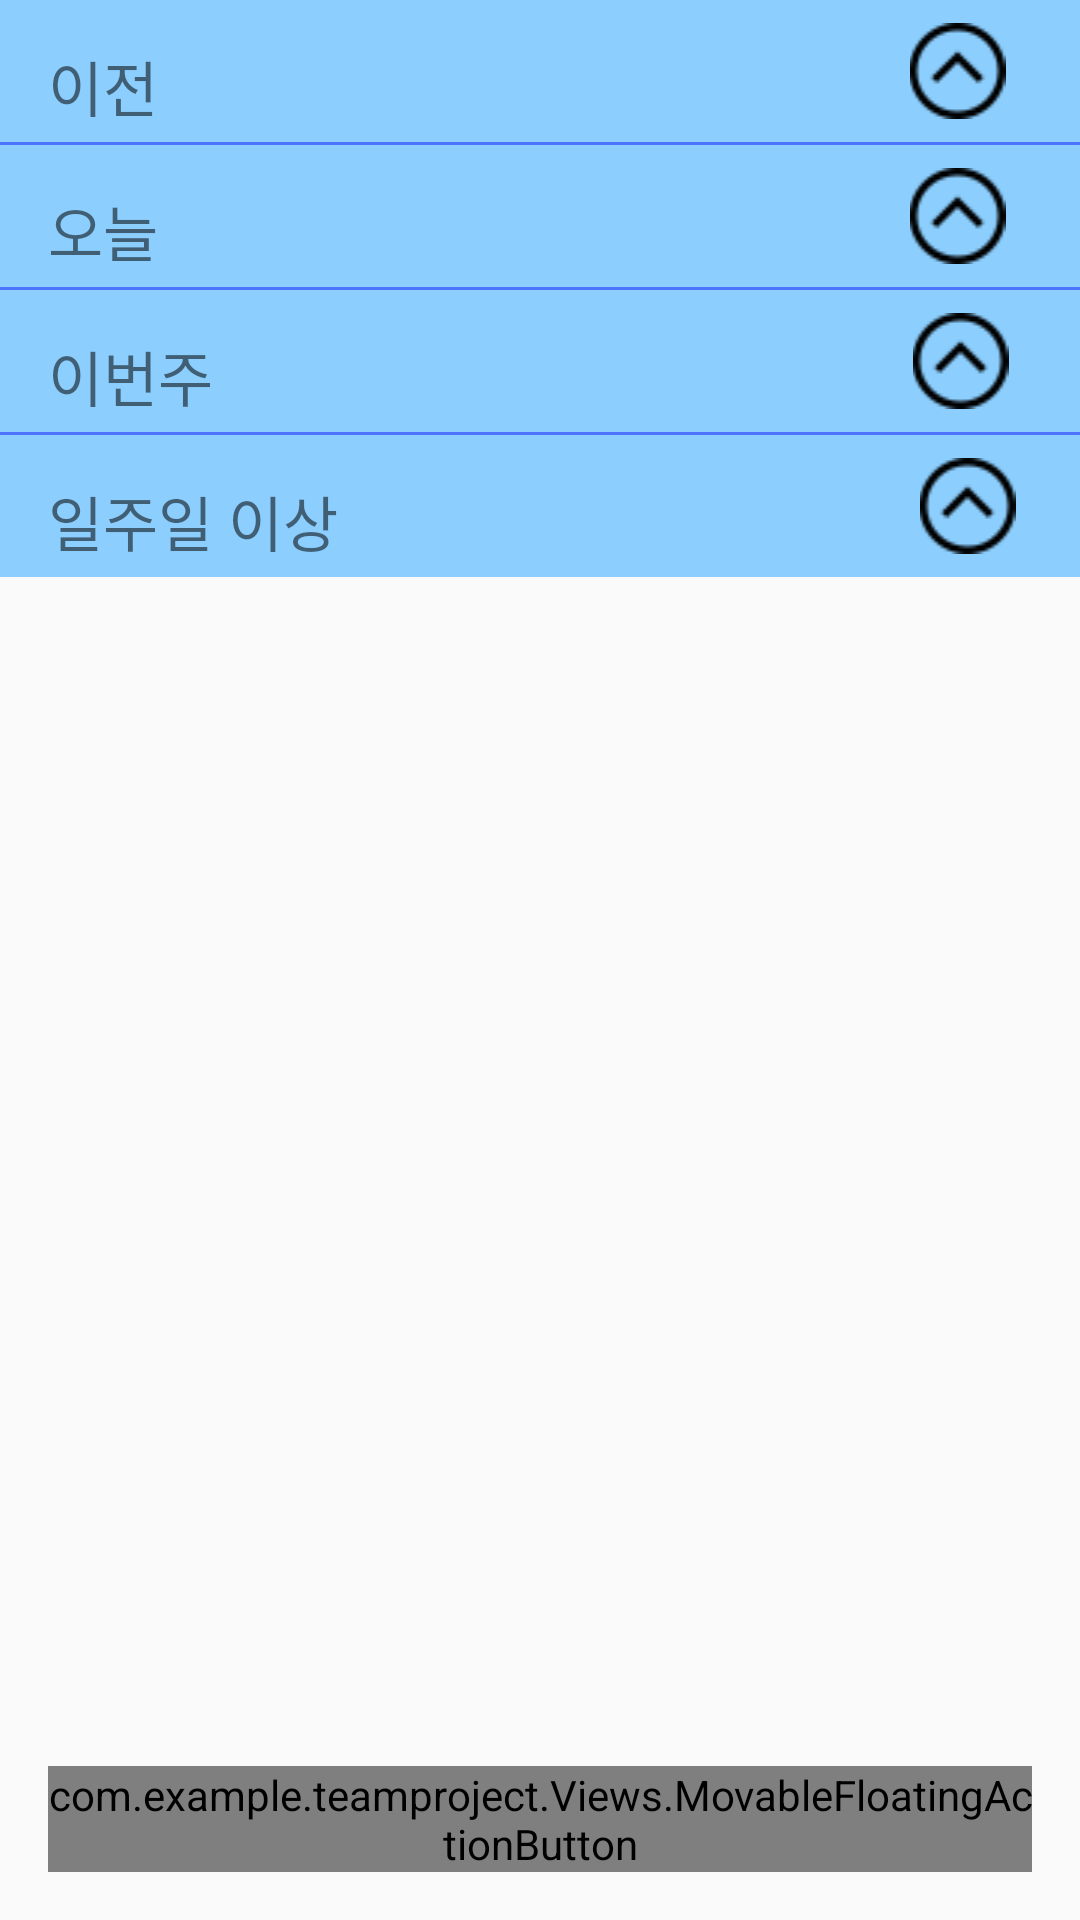

Where to tap for icons on this 1080px×1920px app screen, as point (x, y):
arrow up: point (958, 71), point (958, 216), point (961, 361), point (968, 506)
